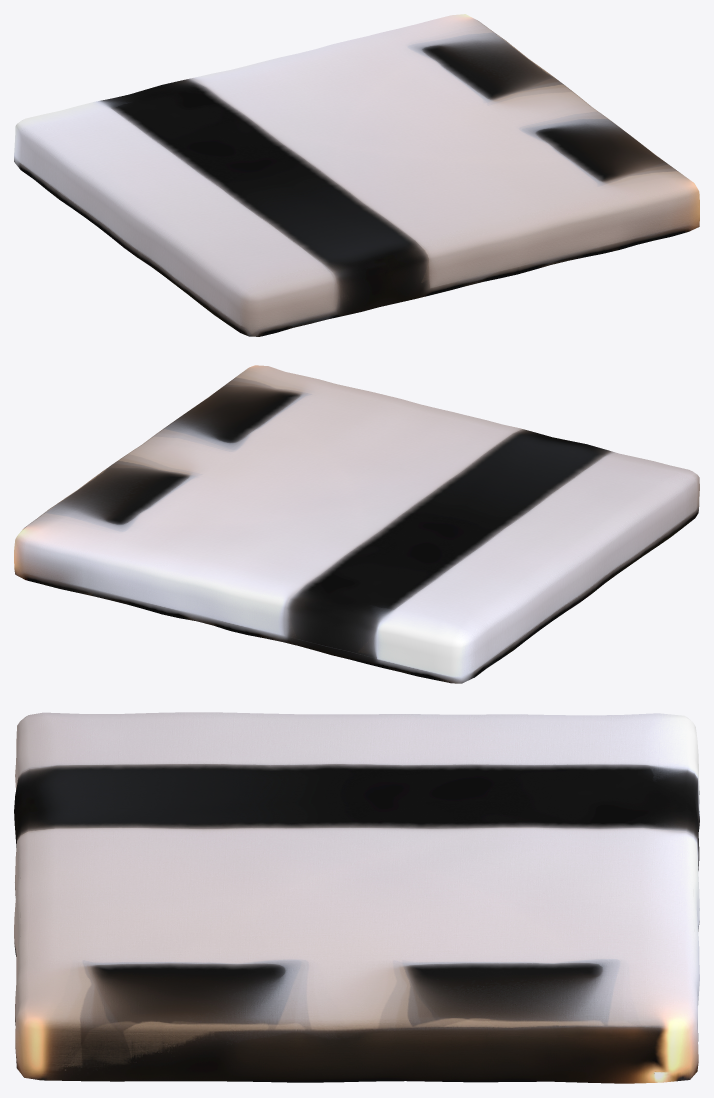
The model's file is mattress.gltf.
The picture shows the model from 3 angles, top to bottom: view 1: azimuth 30°, elevation 25°; view 2: azimuth 150°, elevation 25°; view 3: azimuth 270°, elevation 25°; orthographic projection. The views are drawn at different scales.
Visible parts, largest first — view 1: Bedrest_Bed_sheet_0.001; view 2: Bedrest_Bed_sheet_0.001; view 3: Bedrest_Bed_sheet_0.001.
Boxes of the visible parts, <box> form: Bedrest_Bed_sheet_0.001: <box>14,14,699,336</box>; Bedrest_Bed_sheet_0.001: <box>14,365,699,683</box>; Bedrest_Bed_sheet_0.001: <box>14,712,699,1083</box>.
Bounding box in the file's own units: 1.56 × 0.15 × 1.43.
Materials: 1 (1 with a texture image).
